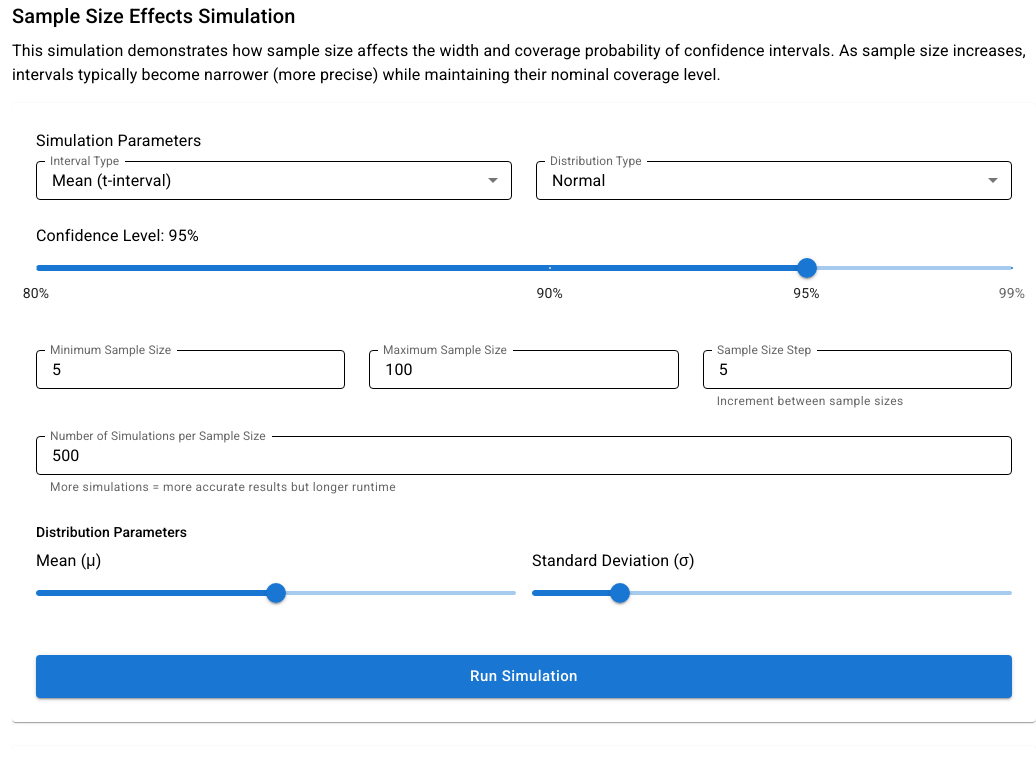
Scenario: SampleSizeSimulation Component › handles WebSocket errors
# Click Run Simulation button to start
Click the button "Run Simulation": click(524, 677) [36,656,1012,698]
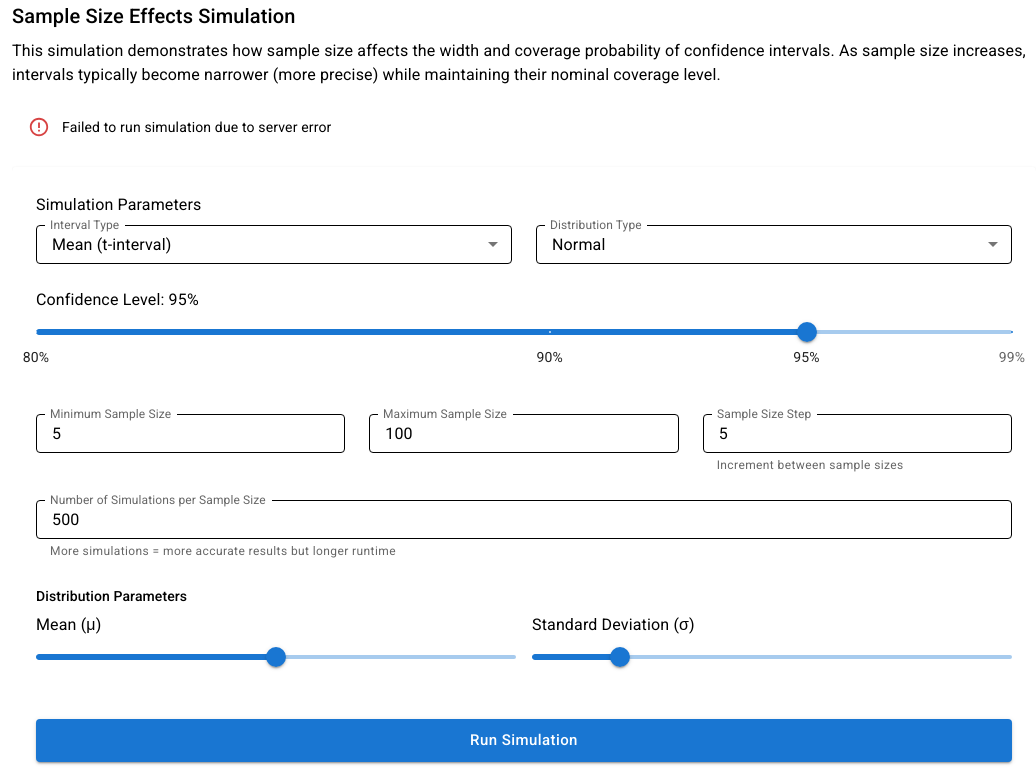
Now the text "Failed to run simulation due to server error" is shown, box [62,119,332,135]
